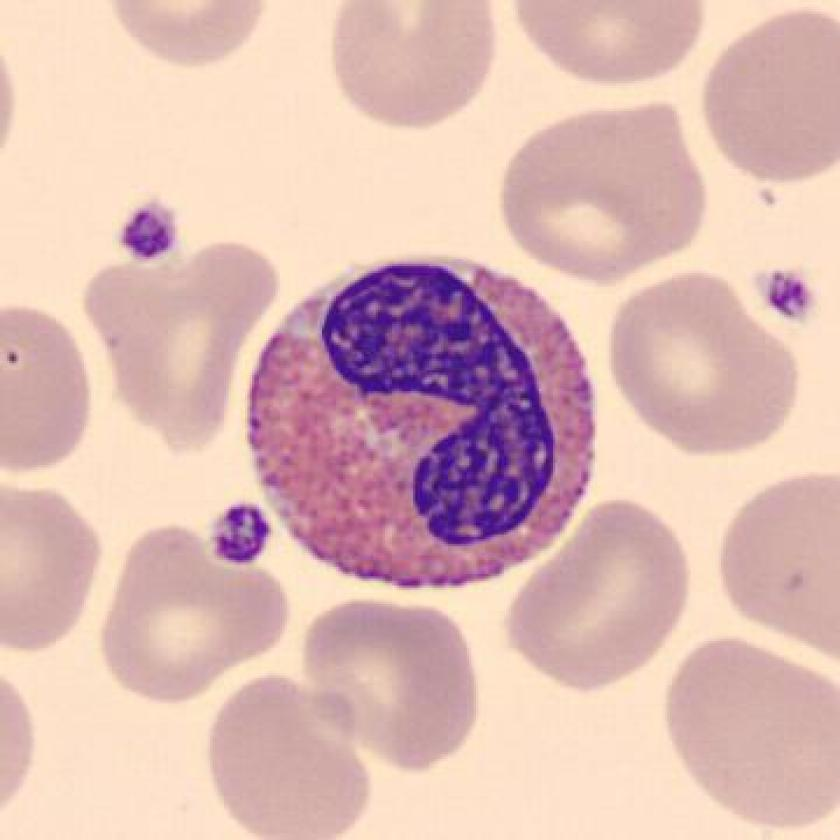eosinophil: (237, 244, 610, 607)
